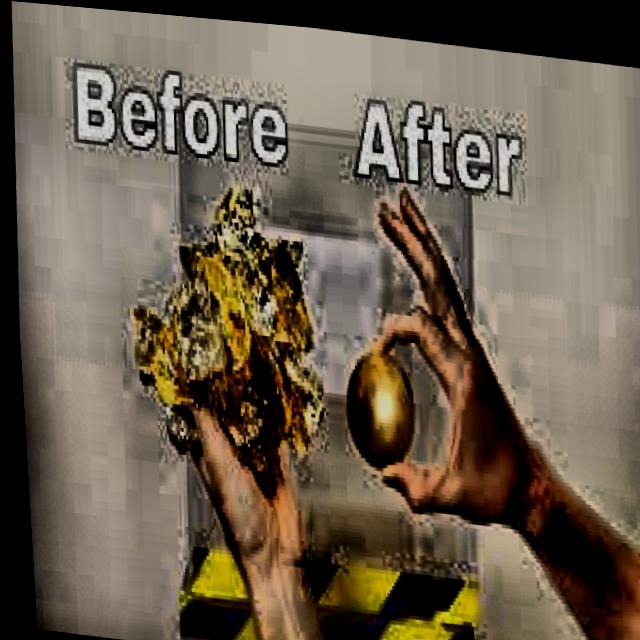Foil: (113, 161, 334, 501)
